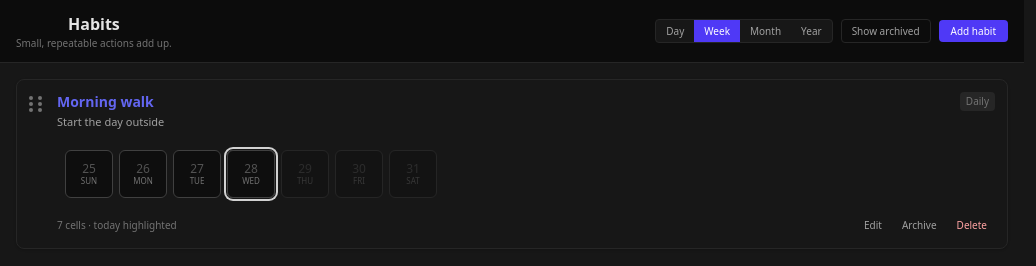
Test: HabitsPage › renders period windows and toggles a current completion cell
Check: the heading "Morning walk" is shown, box [57,92,164,112]
Step 1. Click the button with aria-label "today, not completed" → (251,174), box [227,150,275,198]
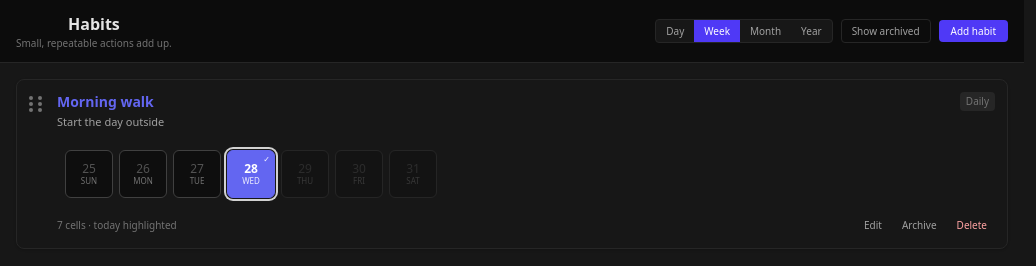
Check: the button with aria-label "today, completed" is pressed, box [227,150,275,198]
Step 2. Click the button "Day" → (675,31), box [656,20,694,42]
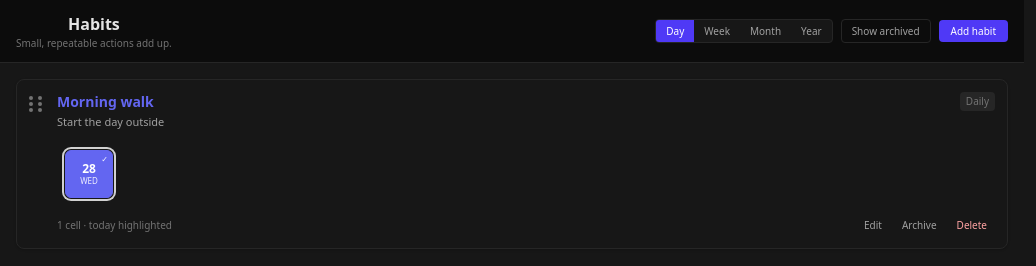
Check: the element named "Morning walk day completion cells" is shown, box [65,150,113,198]
Check: the text "1 cell · today highlighted" is shown, box [57,218,172,232]
Step 3. Click the button "Week" → (717,31), box [694,20,740,42]
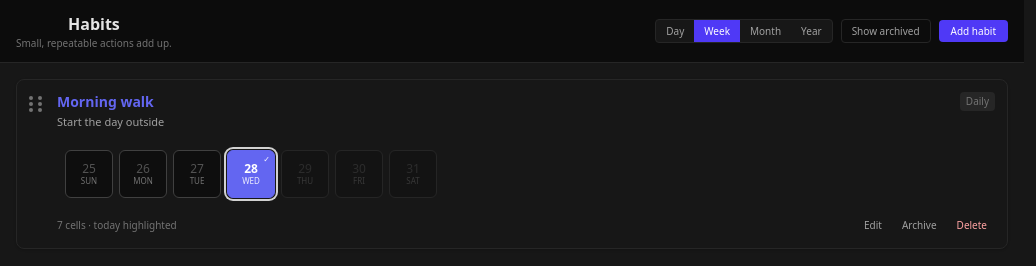
Check: the element named "Morning walk week completion cells" is shown, box [65,150,437,198]
Check: the text "7 cells · today highlighted" is shown, box [57,218,177,232]
Step 4. Click the button "Month" → (766,31), box [740,20,791,42]
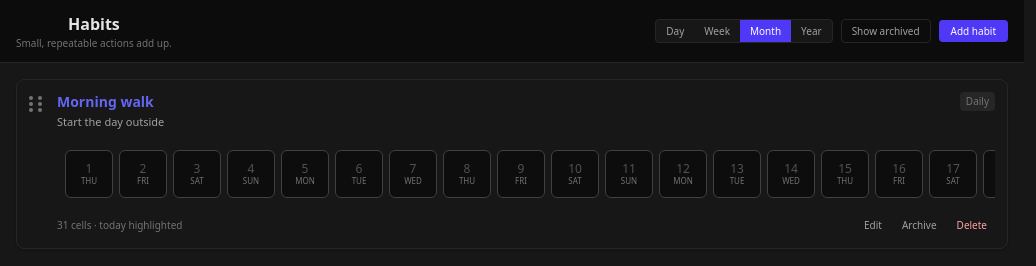
Check: the element named "Morning walk month completion cells" is shown, box [57,142,995,206]
